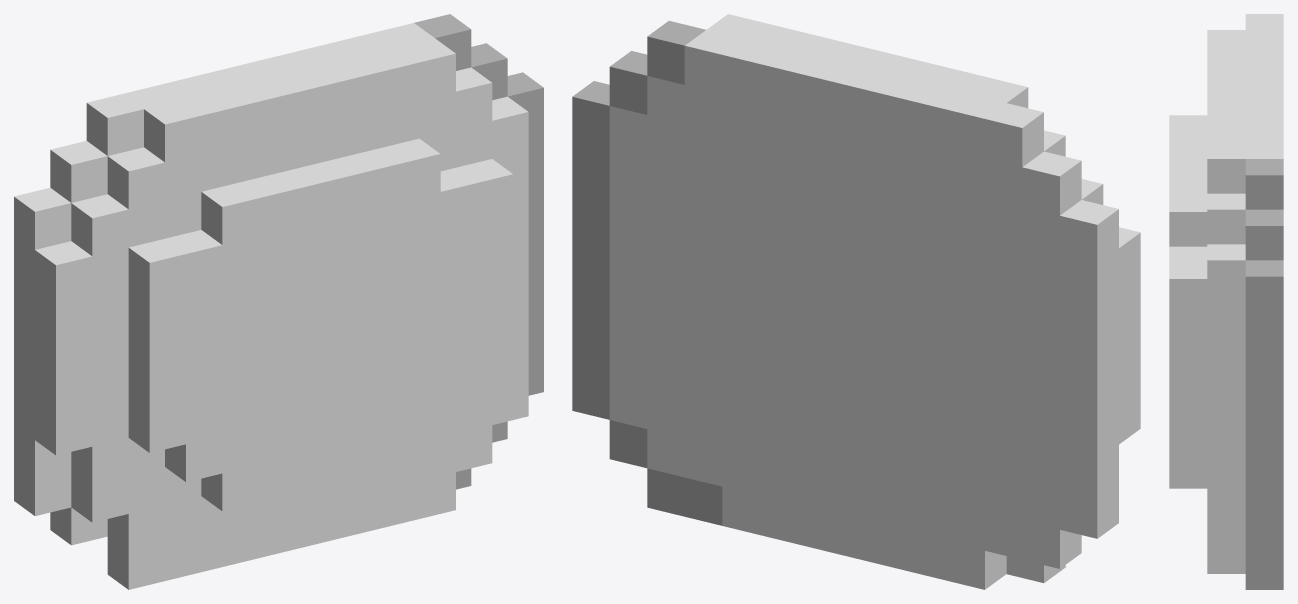
Rendered from bear2-0.obj.
3 views of the same model, side by side, from view 1: azimuth 30°, elevation 25°; view 2: azimuth 150°, elevation 25°; view 3: azimuth 270°, elevation 25° (orthographic). The views are drawn at different scales.
Bounding box in the file's own units: 1.4 × 1.2 × 0.3.
Materials: 1 (1 with a texture image).
